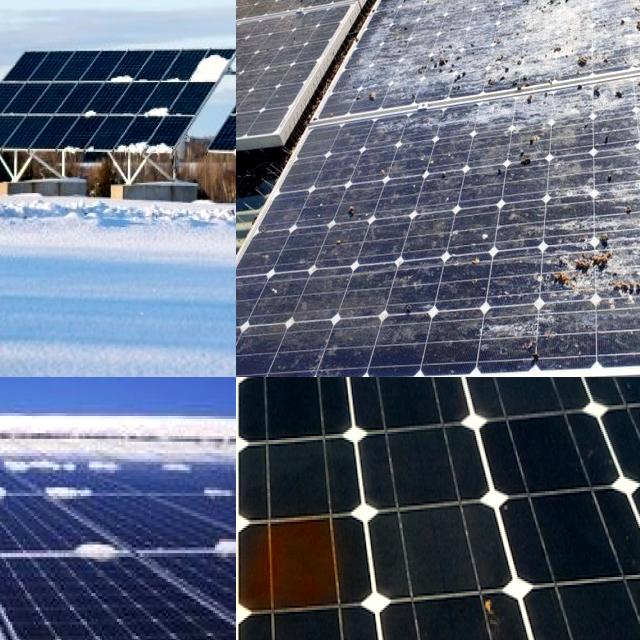bird: (545, 235, 640, 301), (584, 133, 638, 201), (483, 41, 538, 104), (488, 132, 556, 180), (482, 331, 558, 364), (526, 0, 610, 29), (418, 47, 472, 90), (568, 76, 634, 108), (380, 286, 430, 326), (346, 60, 384, 108), (558, 42, 618, 72), (326, 193, 372, 226), (621, 0, 640, 50), (619, 0, 640, 26)
panel: (0, 397, 159, 455), (0, 527, 59, 589), (174, 393, 236, 451), (0, 394, 69, 443), (48, 463, 103, 518), (0, 400, 67, 441), (66, 532, 128, 576), (184, 45, 236, 97), (98, 57, 176, 91), (196, 441, 236, 501), (0, 473, 66, 508), (112, 138, 180, 168), (0, 468, 45, 512), (50, 130, 100, 167), (126, 98, 198, 123), (0, 446, 39, 486), (66, 96, 118, 124), (211, 531, 236, 576), (0, 434, 23, 473), (0, 444, 11, 486)
shadow: (236, 512, 364, 617), (465, 561, 525, 640)
